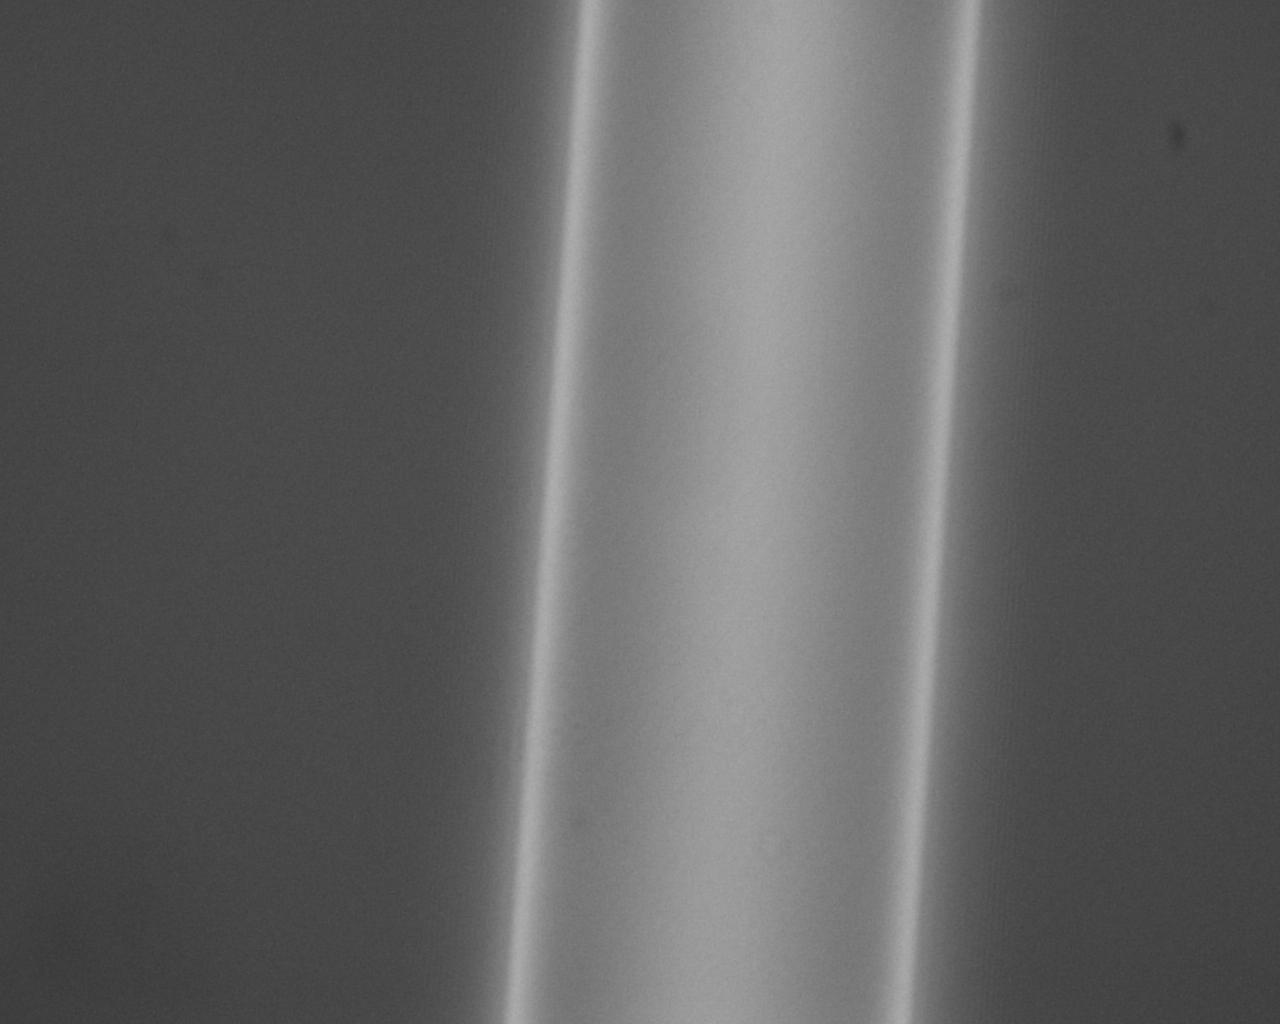fiber: (45, 567, 665, 835), (0, 170, 651, 388), (665, 659, 1220, 829), (665, 21, 1280, 98)
